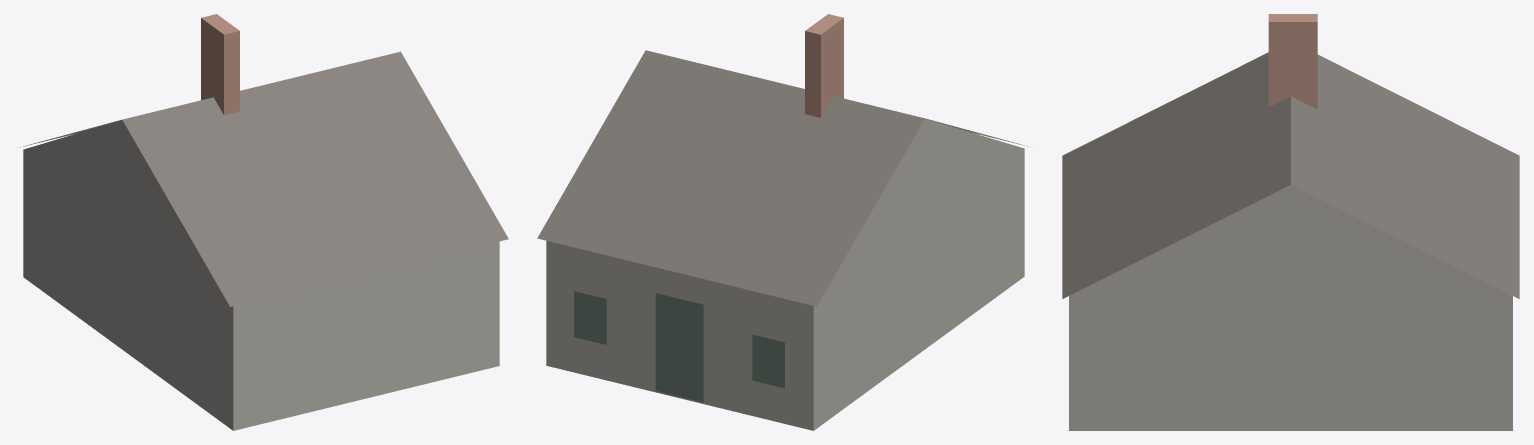
Rendered from recon_1835_south_d4_030__recommended_1835.glb.
3 renders of one model, left to right at view 1: azimuth 30°, elevation 25°; view 2: azimuth 150°, elevation 25°; view 3: azimuth 270°, elevation 25°, orthographic. The views are drawn at different scales.
Visible parts, largest first — view 1: recon_1835_south_d4_030__recommended_1835; view 2: recon_1835_south_d4_030__recommended_1835; view 3: recon_1835_south_d4_030__recommended_1835.
Part boxes in pixels (bbox=[...]): recon_1835_south_d4_030__recommended_1835: bbox=[20, 14, 508, 430]; recon_1835_south_d4_030__recommended_1835: bbox=[537, 14, 1028, 430]; recon_1835_south_d4_030__recommended_1835: bbox=[1062, 14, 1519, 430].
Bounding box in the file's own units: 6.36 × 6.67 × 8.54.
